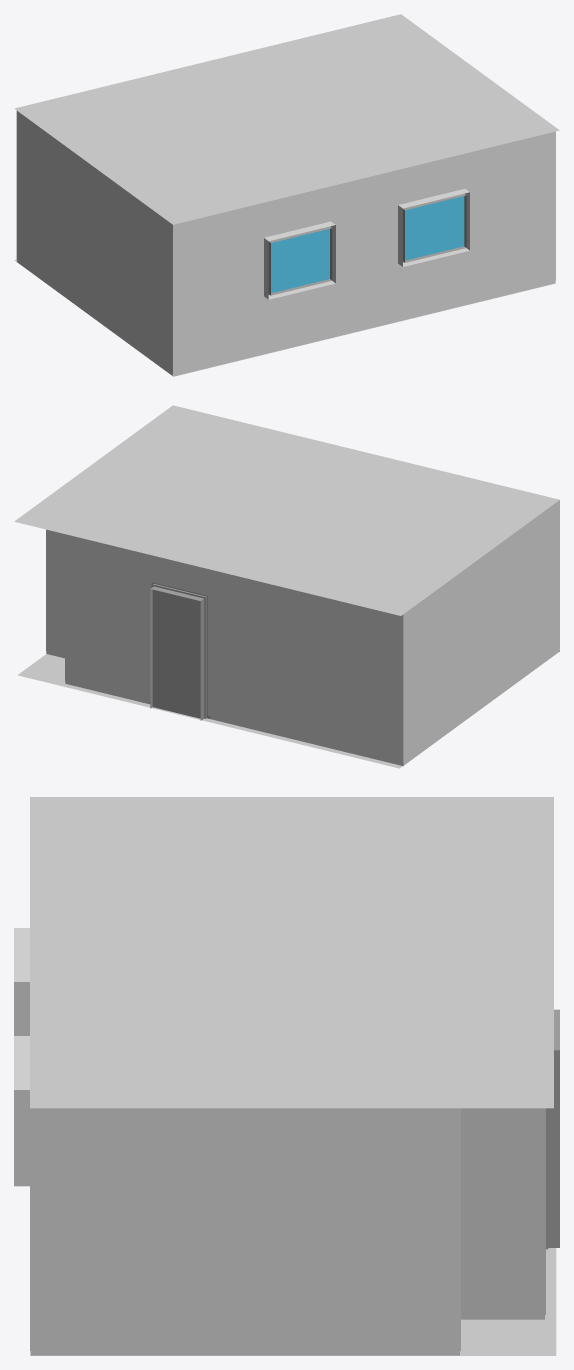
File: EdificioInterior.fbx
The picture shows the model from 3 angles, top to bottom: view 1: azimuth 30°, elevation 25°; view 2: azimuth 150°, elevation 25°; view 3: azimuth 270°, elevation 25°; orthographic projection. The views are drawn at different scales.
Visible parts, largest first — view 1: ExteriorConsulta, Techo Consulta V2, CristalConsultaIzq, CristalConsultaDer, EmbExtConsulta, MarcoVentanaConsultaDer, MarcoVentanaConsultaIzq; view 2: Techo Consulta V2, PCsultaAbjoDer, ExteriorConsulta, PCsultaAbjoIzq.002, PuertaConsulta, PAseoArrbaDer, SueloConsulta, MarcoPuertaConsulta, SobrePuertaConsulta, PCsultaAbjoDer.001, EmbExtConsulta; view 3: Techo Consulta V2, PCsultaIzq.002, PAseoDerArrba, SueloConsulta, ExteriorConsulta, MarcoPuertaConsulta, PCsultaIzq.003.
Part boxes in pixels (x1,y1,x2,y2): ExteriorConsulta: (16,111,555,373); Techo Consulta V2: (14,14,559,224); CristalConsultaIzq: (405,196,464,260); CristalConsultaDer: (271,228,329,293); EmbExtConsulta: (17,260,555,376); MarcoVentanaConsultaDer: (268,226,332,295); MarcoVentanaConsultaIzq: (403,193,466,262); Techo Consulta V2: (14,405,559,615); PCsultaAbjoDer: (207,569,403,763); ExteriorConsulta: (403,500,559,763); PCsultaAbjoIzq.002: (65,534,151,701); PuertaConsulta: (152,589,200,718); PAseoArrbaDer: (46,529,64,655); SueloConsulta: (17,654,402,768); MarcoPuertaConsulta: (149,582,210,720); SobrePuertaConsulta: (151,555,207,595); PCsultaAbjoDer.001: (210,716,403,766); EmbExtConsulta: (403,649,559,765); Techo Consulta V2: (30,797,553,1108); PCsultaIzq.002: (30,1108,460,1350); PAseoDerArrba: (461,1108,545,1314); SueloConsulta: (30,1248,556,1355); ExteriorConsulta: (14,928,29,1186); MarcoPuertaConsulta: (546,1009,559,1249); PCsultaIzq.003: (31,1351,459,1355).
Bounding box in the file's own units: 692 × 260 × 513.
